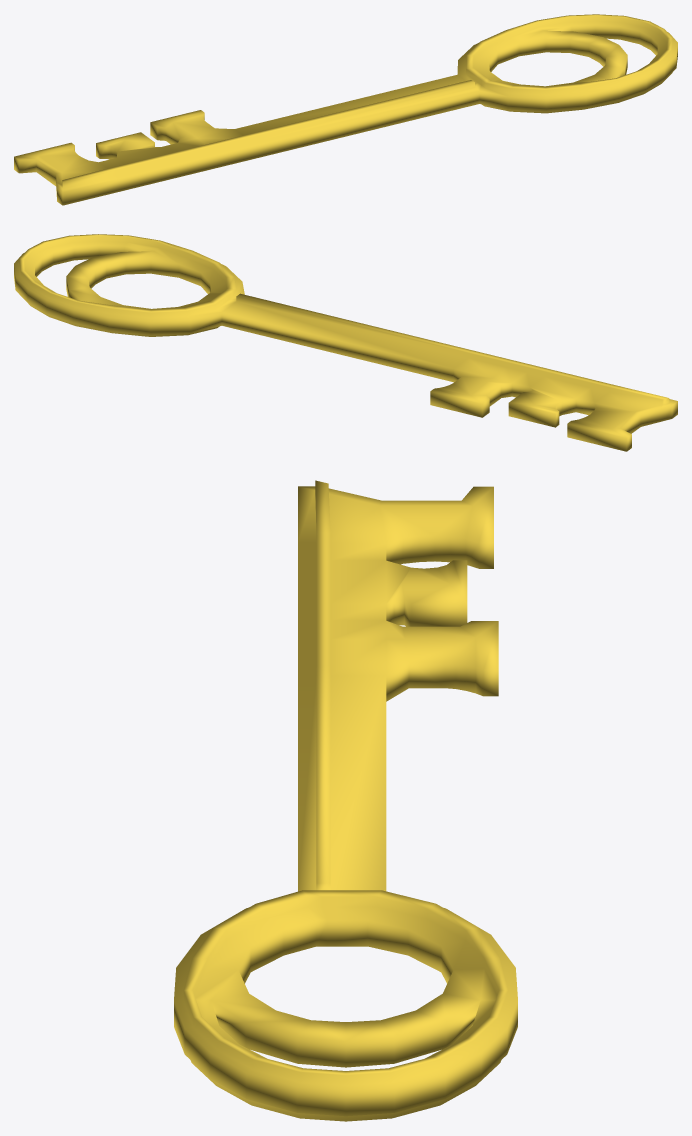
File: key.fbx
3 renders of one model, top to bottom at view 1: azimuth 30°, elevation 25°; view 2: azimuth 150°, elevation 25°; view 3: azimuth 270°, elevation 25°, orthographic. The views are drawn at different scales.
Parts seen in each view (by area): view 1: Plane; view 2: Plane; view 3: Plane.
Part boxes in pixels (bbox=[...]): Plane: bbox=[14, 14, 677, 205]; Plane: bbox=[14, 234, 677, 451]; Plane: bbox=[174, 480, 517, 1121].
Bounding box in the file's own units: 0.8779 × 0.0306 × 0.2116.
